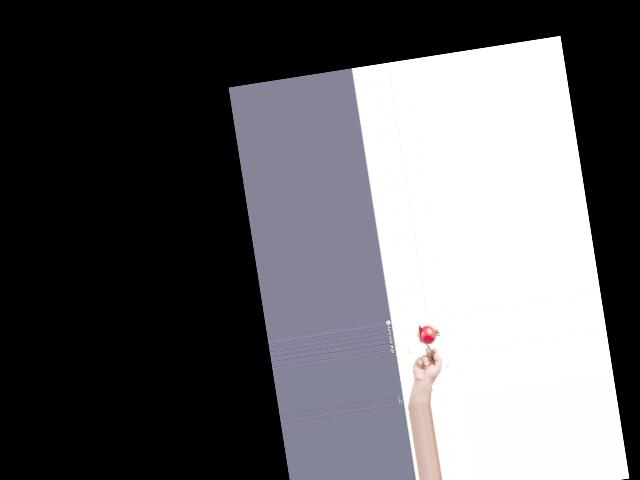tomato: (418, 324, 437, 345)
